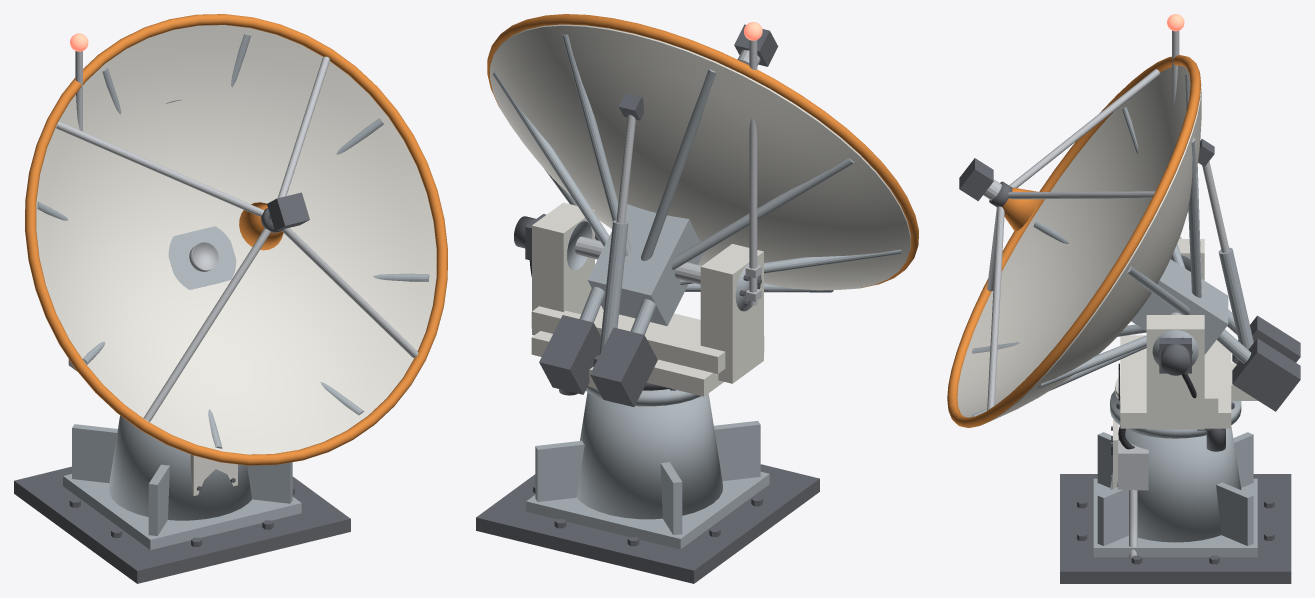
File: tracking-signal-dish-grouped.glb
3 renders of one model, left to right at view 1: azimuth 30°, elevation 25°; view 2: azimuth 150°, elevation 25°; view 3: azimuth 270°, elevation 25°, orthographic. The views are drawn at different scales.
Visible parts, largest first — view 1: DishAssembly_Group, Pedestal_Group, StaticBody, AzimuthYoke_Group; view 2: DishAssembly_Group, Pedestal_Group, StaticBody, AzimuthYoke_Group, SupportHardware_Group; view 3: DishAssembly_Group, Pedestal_Group, StaticBody, AzimuthYoke_Group, SupportHardware_Group.
Boxes of the visible parts, <box> form: DishAssembly_Group: <box>25,14,447,465</box>; Pedestal_Group: <box>14,415,350,583</box>; StaticBody: <box>56,56,418,421</box>; AzimuthYoke_Group: <box>70,33,88,131</box>; DishAssembly_Group: <box>487,14,918,406</box>; Pedestal_Group: <box>476,386,819,583</box>; StaticBody: <box>532,202,763,388</box>; AzimuthYoke_Group: <box>514,22,764,396</box>; SupportHardware_Group: <box>529,93,643,366</box>; DishAssembly_Group: <box>947,55,1300,427</box>; Pedestal_Group: <box>1060,390,1291,583</box>; StaticBody: <box>987,69,1257,429</box>; AzimuthYoke_Group: <box>1115,14,1231,451</box>; SupportHardware_Group: <box>1118,139,1253,558</box>.
Bounding box in the file's own units: 1.67 × 2 × 1.35.
